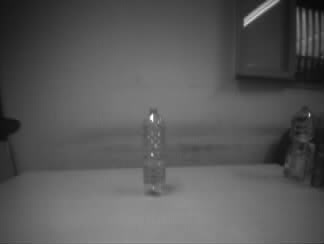Bottle: (141, 107, 167, 195)
